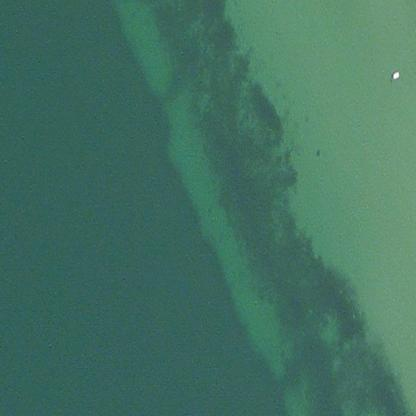ship: (386, 64, 404, 85)
